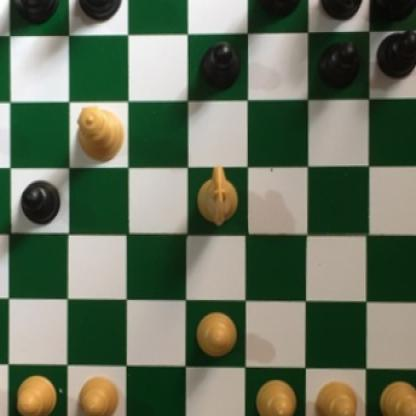black-bishop: (76, 0, 123, 24), (255, 0, 302, 17)
black-king: (1, 0, 58, 27)
black-knight: (320, 0, 368, 24)
black-pawn: (197, 40, 239, 92), (316, 40, 358, 91), (376, 27, 416, 80), (19, 179, 62, 225)
black-rook: (370, 0, 416, 24)
white-knight: (196, 163, 238, 231)
white-pawn: (195, 308, 238, 360), (13, 371, 58, 416), (76, 373, 121, 416), (313, 381, 359, 416), (255, 379, 297, 416), (375, 381, 416, 416)
white-queen: (73, 103, 127, 160)
